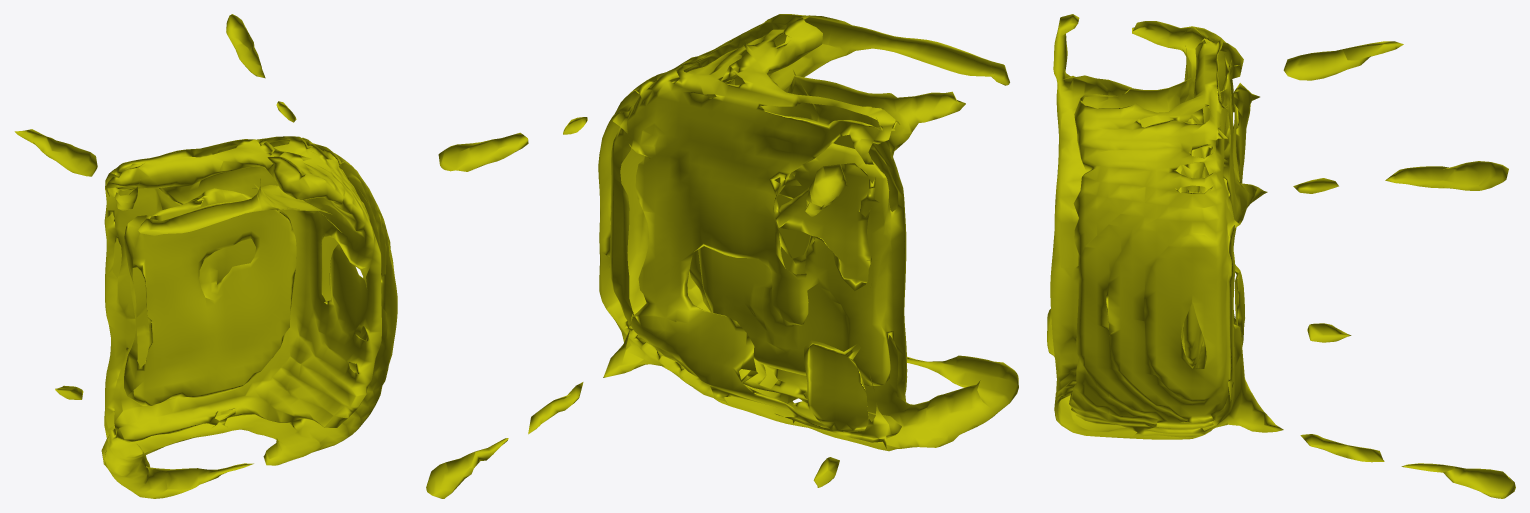
3 renders of one model, left to right at view 1: azimuth 30°, elevation 25°; view 2: azimuth 150°, elevation 25°; view 3: azimuth 270°, elevation 25°, orthographic. The views are drawn at different scales.
Visible parts, largest first — view 1: world; view 2: world; view 3: world.
Boxes of the visible parts, x1=… form: world: x1=14, y1=14, x2=397, y2=498; world: x1=426, y1=14, x2=1018, y2=498; world: x1=1047, y1=14, x2=1515, y2=498.
Bounding box in the file's own units: 33.44 × 31.57 × 39.3.
